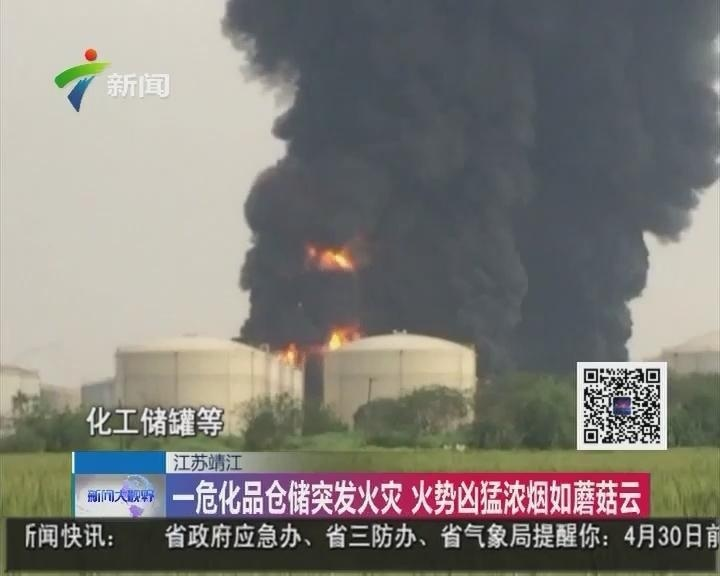fire: (324, 319, 362, 350), (315, 245, 354, 269)
